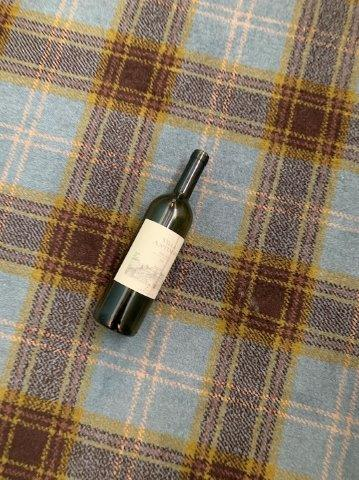botolkaca: (91, 150, 210, 337)
